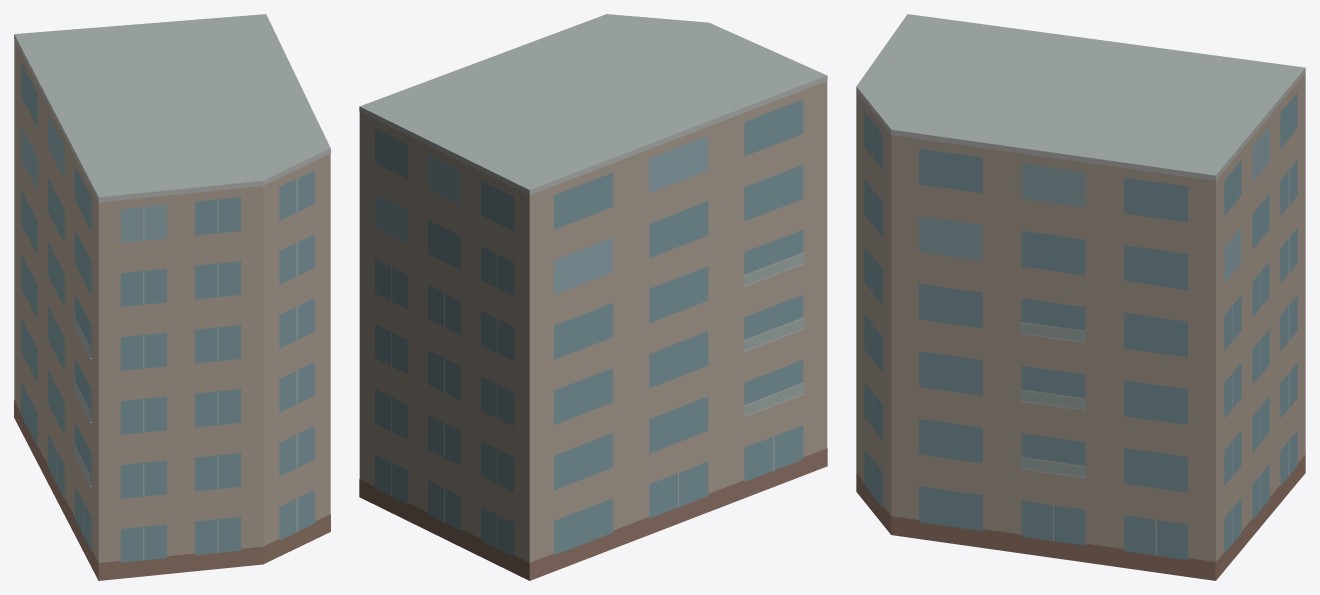
File: survey-upis-33047154.glb
3 renders of one model, left to right at view 1: azimuth 30°, elevation 25°; view 2: azimuth 150°, elevation 25°; view 3: azimuth 270°, elevation 25°, orthographic. The views are drawn at different scales.
Visible parts, largest first — view 1: survey-upis-33047154.tmp; view 2: survey-upis-33047154.tmp; view 3: survey-upis-33047154.tmp.
Part boxes in pixels (x1,y1,x2,y2): survey-upis-33047154.tmp: [14, 14, 330, 580]; survey-upis-33047154.tmp: [359, 14, 827, 580]; survey-upis-33047154.tmp: [856, 14, 1305, 580].
Bounding box in the file's own units: 15.66 × 18.3 × 18.39.
